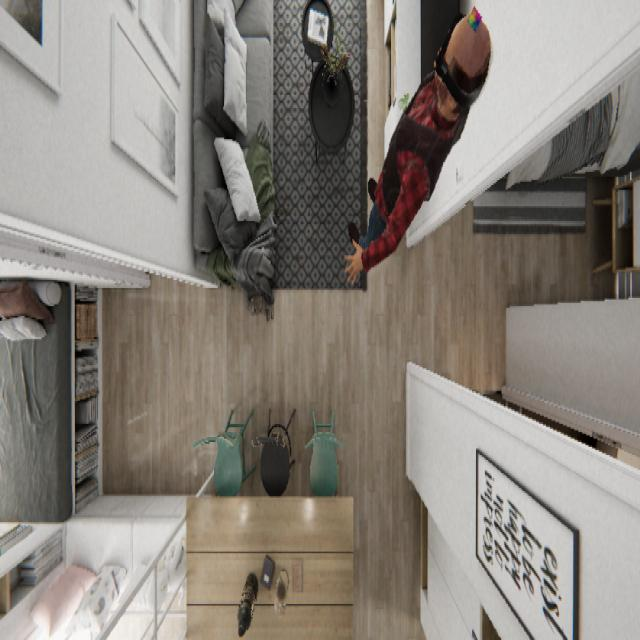Colored-Marker: (466, 3, 483, 34)
Human: (343, 5, 493, 286)
